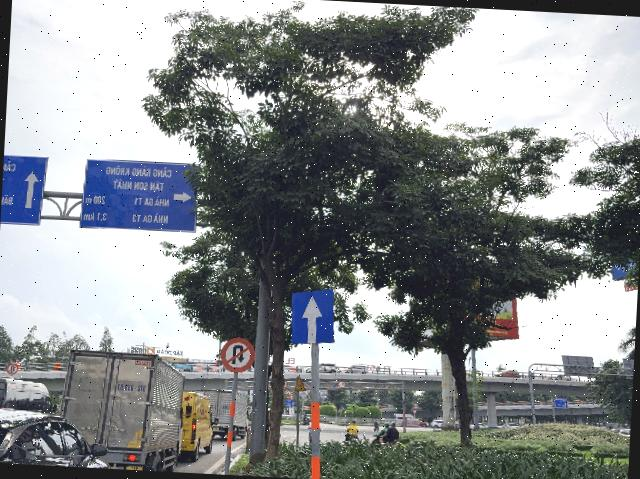cam-quay-dau-xe: (220, 336, 256, 374)
duong-mot-chieu: (288, 287, 338, 347)
